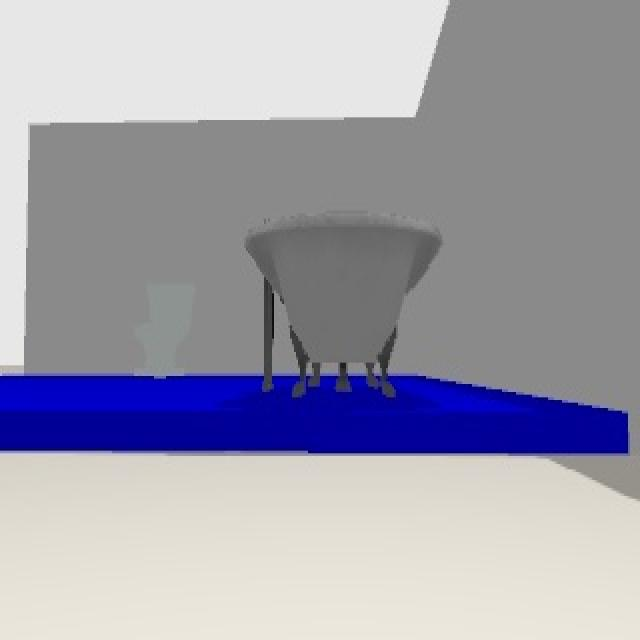bathtub: (240, 204, 444, 406)
